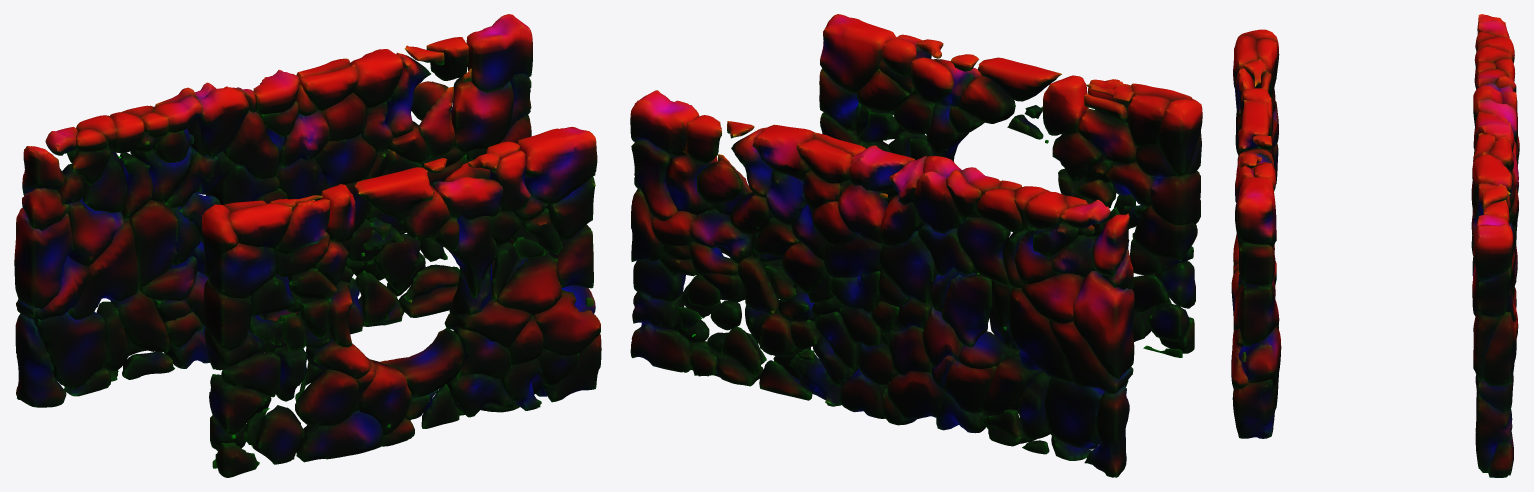
The model's file is particle_wall.fbx.
The picture shows the model from 3 angles, left to right: view 1: azimuth 30°, elevation 25°; view 2: azimuth 150°, elevation 25°; view 3: azimuth 270°, elevation 25°; orthographic projection. The views are drawn at different scales.
Visible parts, largest first — view 1: clean1; view 2: clean1; view 3: clean1.
Part boxes in pixels (x1,y1,x2,y2): clean1: (14,14,601,477); clean1: (630,14,1202,477); clean1: (1231,14,1519,477).
Bounding box in the file's own units: 406 × 211 × 217.
